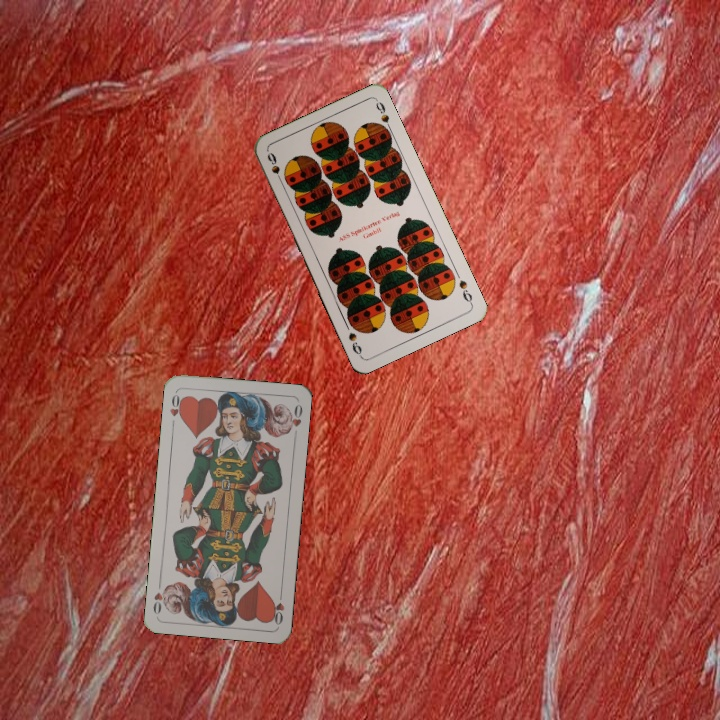HO: (166, 390, 186, 429), (268, 587, 287, 627)
S9: (263, 148, 286, 187), (455, 276, 475, 307)
